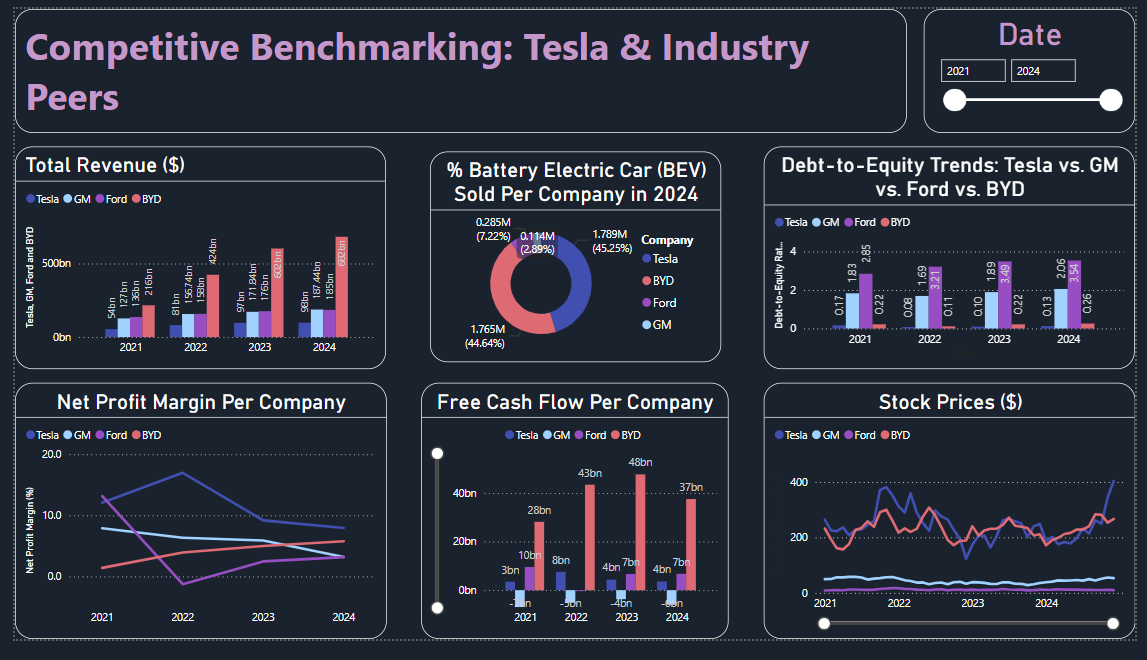

The dashboard page shown, as its layout file describes it:
{"tool":"powerbi","page":{"name":"Tesla vs. Rivals","canvas":[1280,720],"ordinal":1},"visuals":[{"type":"lineChart","title":"Stock Prices ($)","fields":{"Y":["Sum(cleaned_tesla_stock_prices.Close)","Sum(gm_monthly_stock_prices.Close)","Sum(ford_monthly_stock_prices.Close)","Sum(byd_monthly_stock_prices_2019_present.Close)"],"Category":["DateTable.Date"]},"box":[855,427.5,425,292.5],"z":0},{"type":"donutChart","title":"% Battery Electric Car (BEV) Sold Per Company in 2024","fields":{"Category":["BEVS Sold.Company"],"Y":["Sum(BEVS Sold.BEVs Sold)"]},"box":[473.6,162.7,332.7,240.9],"z":1000},{"type":"clusteredColumnChart","title":"Total Revenue ($)","fields":{"Category":["DateTable.Date"],"Y":["Sum(Net Profit Margin Calculation.Total_Revenue)","Sum(GM Income statement.Revenue)","Sum(Ford Income Statment.Total revenue)","Sum(BYD Income statment.Revenue)"]},"box":[0,156.5,424.3,254.2],"z":2000},{"type":"lineChart","title":"Net Profit Margin Per Company","fields":{"Category":["DateTable.Date"],"Y":["Sum(Net Profit Margin Calculation.Net_Profit_Margin)","Sum(gm_net_profit_margin_2020_2024.Net Profit Margin (%))","Sum(ford_net_profit_margin_2020_2024.Net Profit Margin (%))","Sum(byd_net_profit_margin_2020_2024.Net Profit Margin (%))"]},"box":[0,427.3,424.5,292.7],"z":3000},{"type":"clusteredColumnChart","title":"Debt-to-Equity Trends: Tesla vs. GM vs. Ford vs. BYD","fields":{"Category":["DateTable.Date"],"Y":["Sum(Debt & Financial Stability.Debt_to_Equity_Ratio)","Sum(gm_debt_to_equity_ratio.Debt-to-Equity Ratio)","Sum(ford_debt_to_equity_ratio.Debt-to-Equity Ratio)","Sum(byd_debt_to_equity_ratio.Debt-to-Equity Ratio)"]},"box":[855.5,156.5,424.3,254.2],"z":4000},{"type":"textbox","box":[0,0,1019.1,141.8],"z":5000},{"type":"slicer","title":"Date","fields":{"Values":["DateTable.Year"]},"box":[1038.3,0,241.7,141.7],"z":6000},{"type":"clusteredColumnChart","title":"Free Cash Flow Per Company","fields":{"Y":["Sum(Free Cash Flow Over Time.Free_Cash_Flow)","Sum(GM Income statement.Free Cash Flow)","Sum(Ford Income Statment.Free Cash Flow)","Sum(BYD Income statment.Free Cash Flow)"],"Category":["DateTable.Date"]},"box":[464.5,427.3,350.9,292.7],"z":7000}]}

Visuals, with their boxes in screenshot pixels (x1, y1, x2, y2), scaled from the page's 1280x720 canvas onto the 1147x660 screenshot:
"Stock Prices ($)" lineChart: locate(766, 392, 1146, 659)
"% Battery Electric Car (BEV) Sold Per Company in 2024" donutChart: locate(424, 149, 723, 370)
"Total Revenue ($)" clusteredColumnChart: locate(0, 143, 380, 376)
"Net Profit Margin Per Company" lineChart: locate(0, 392, 380, 659)
"Debt-to-Equity Trends: Tesla vs. GM vs. Ford vs. BYD" clusteredColumnChart: locate(767, 143, 1146, 376)
textbox: locate(0, 0, 913, 130)
"Date" slicer: locate(930, 0, 1146, 130)
"Free Cash Flow Per Company" clusteredColumnChart: locate(416, 392, 731, 659)
